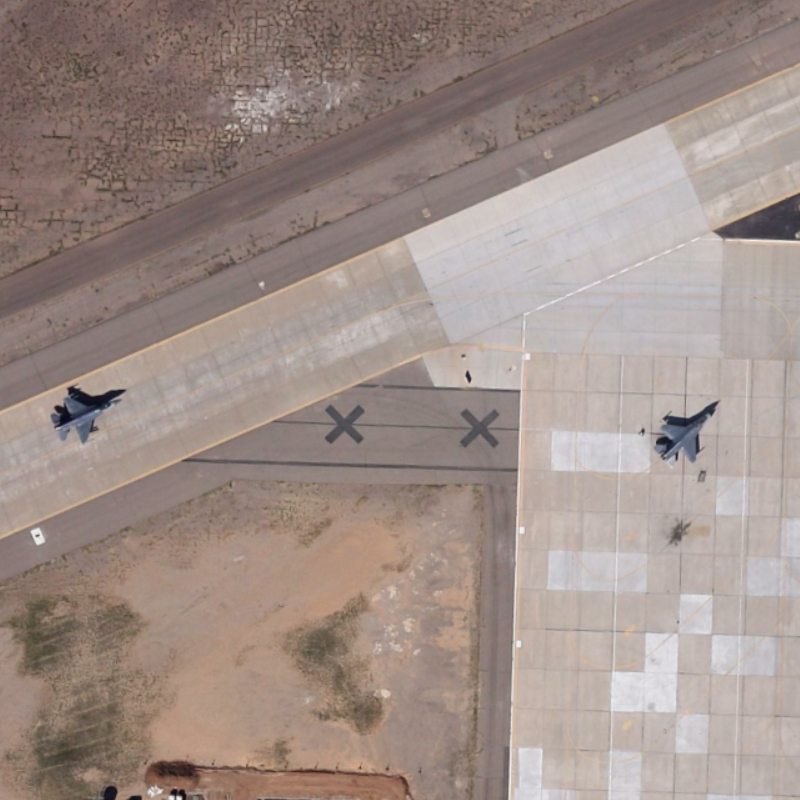A5: (46, 391, 129, 450), (650, 400, 720, 468)
